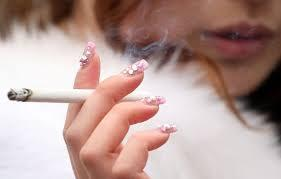smoke: (6, 87, 138, 105)
